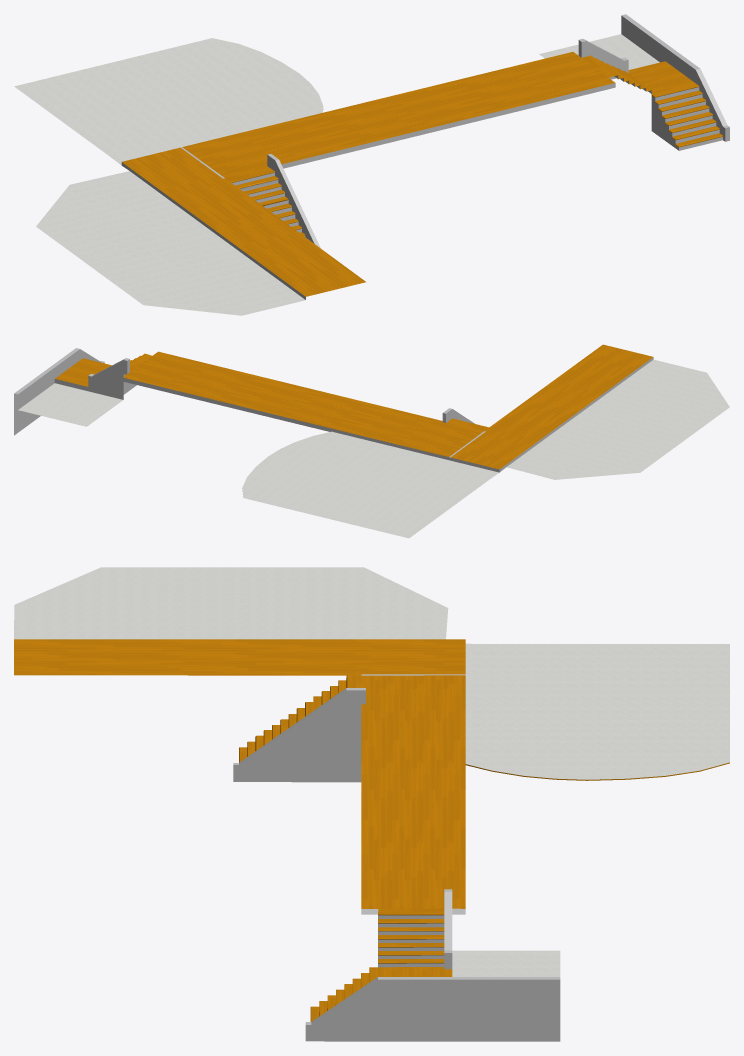
The model's file is RecCenterupperlevel.fbx.
The picture shows the model from 3 angles, top to bottom: view 1: azimuth 30°, elevation 25°; view 2: azimuth 150°, elevation 25°; view 3: azimuth 270°, elevation 25°; orthographic projection. The views are drawn at different scales.
Parts seen in each view (by area): view 1: upperlevel; view 2: upperlevel; view 3: upperlevel.
Boxes of the visible parts, box(x1,y1,x2,y2) form: upperlevel: box(14, 14, 729, 315); upperlevel: box(14, 344, 729, 538); upperlevel: box(14, 567, 729, 1041).
Size of the model in its own units: 3997 by 454 by 3021.
